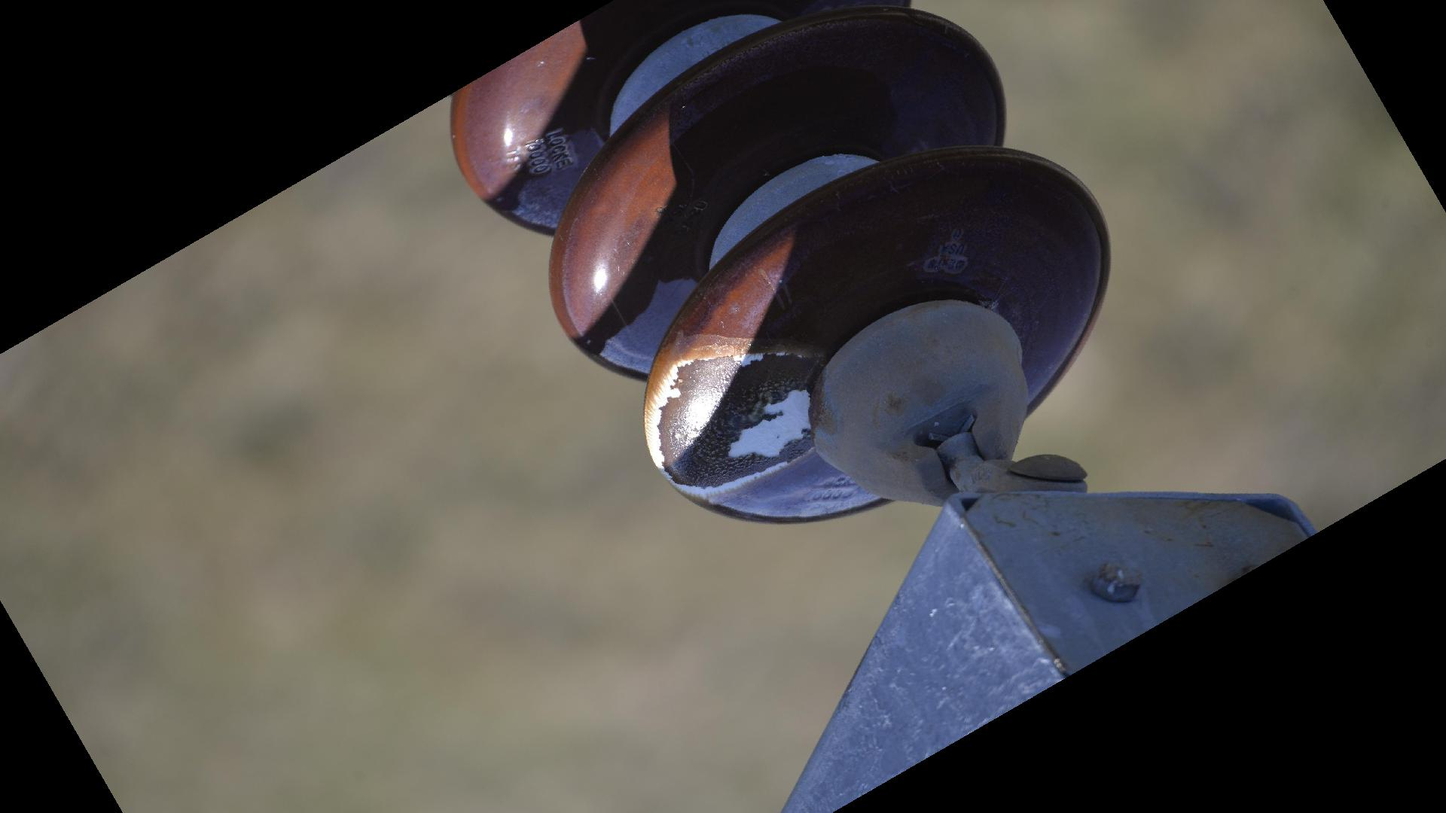insulator: (441, 1, 1121, 534)
insulator_flashover: (653, 343, 832, 496)
